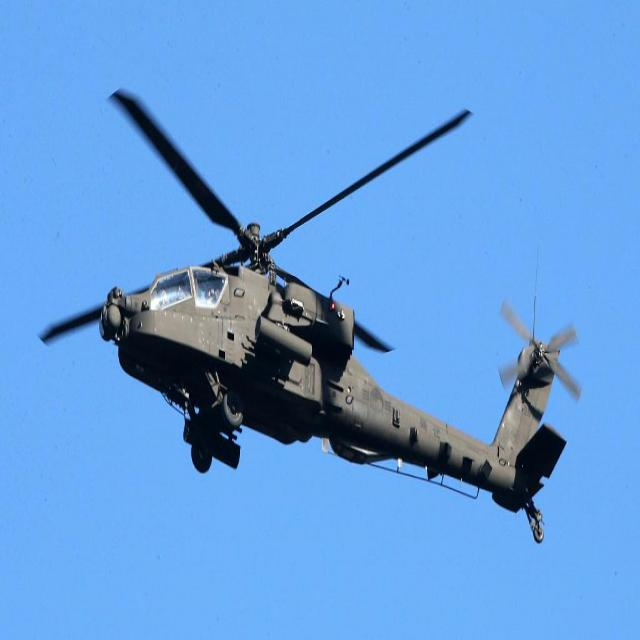MIL_HELO: (17, 58, 575, 561)
